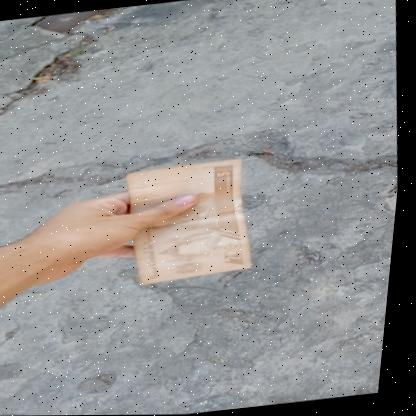five-back-vef: (119, 157, 263, 286)
